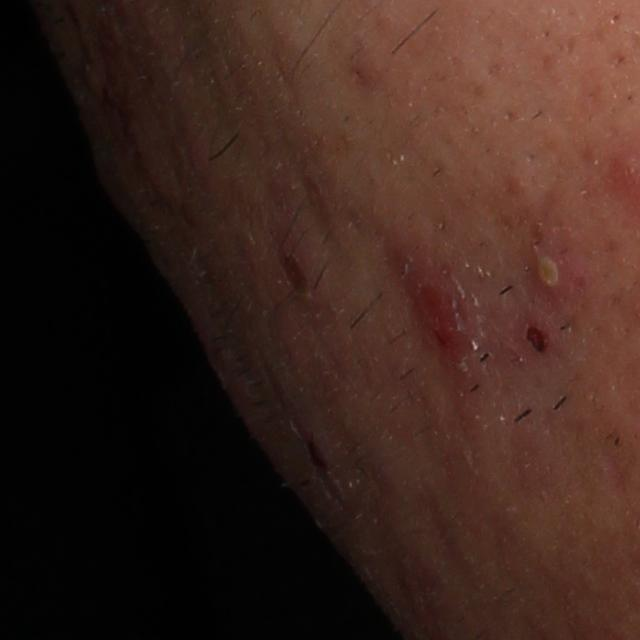papule: (412, 241, 472, 367), (272, 237, 316, 298)
pustule: (525, 252, 572, 299)
